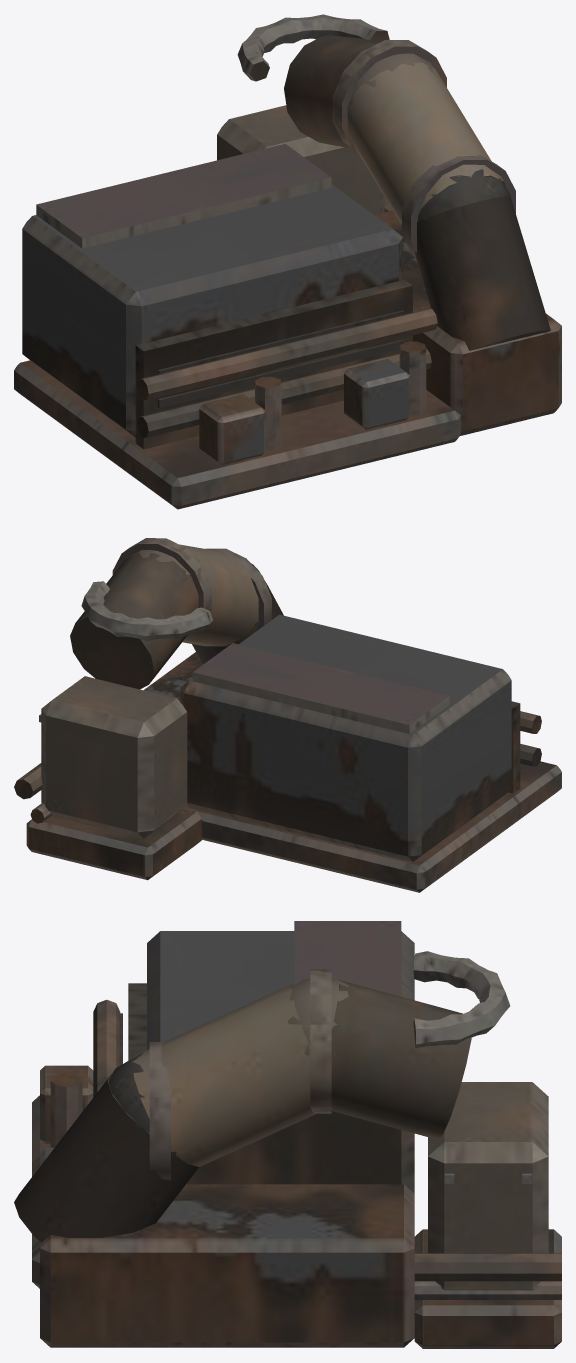
The model's file is cargo-bay-corner-se.glb.
3 views of the same model, one above another, from view 1: azimuth 30°, elevation 25°; view 2: azimuth 150°, elevation 25°; view 3: azimuth 270°, elevation 25° (orthographic). The views are drawn at different scales.
Parts seen in each view (by area): view 1: body; view 2: body; view 3: body.
Boxes of the visible parts, x1,y1,x2,y2 form: body: [14, 14, 561, 509]; body: [14, 538, 561, 892]; body: [14, 921, 561, 1348].
Size of the model in its own units: 2.03 by 1.42 by 2.05.
Materials: 1 (1 with a texture image).
